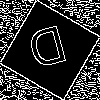D: (25, 25, 72, 78)
